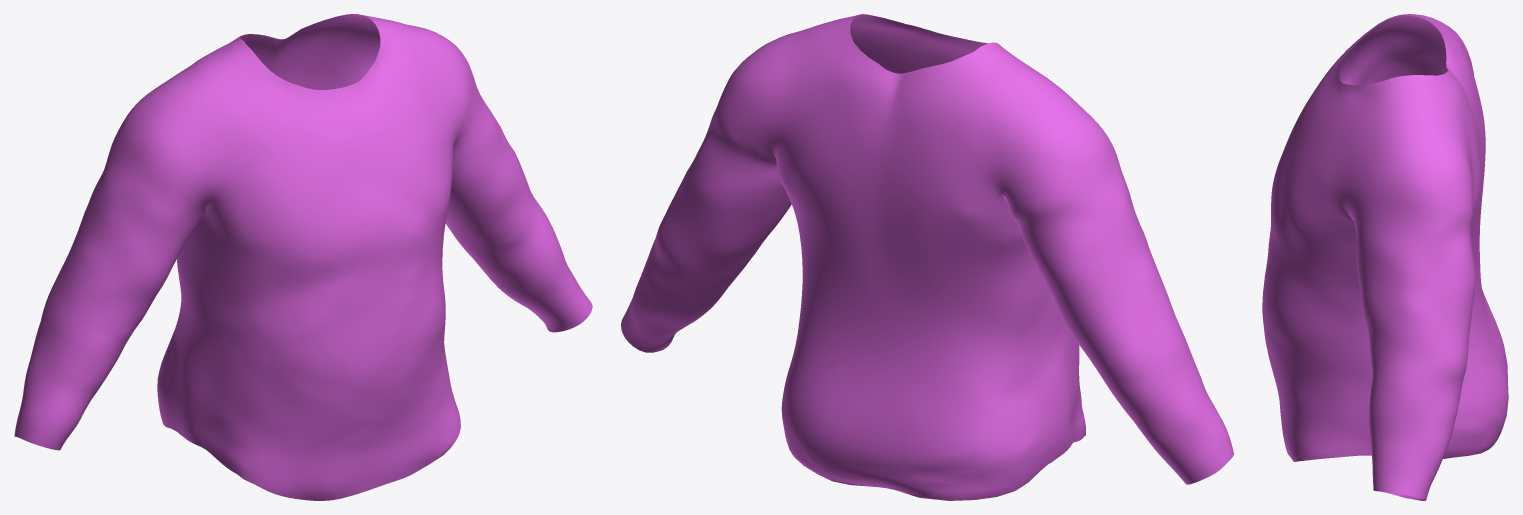
The model's file is Male-XX-Large-Shirt-.glb.
3 renders of one model, left to right at view 1: azimuth 30°, elevation 25°; view 2: azimuth 150°, elevation 25°; view 3: azimuth 270°, elevation 25°, orthographic. The views are drawn at different scales.
Visible parts, largest first — view 1: Group1.008; view 2: Group1.008; view 3: Group1.008.
Part boxes in pixels (left/top/right/bottom): Group1.008: left=14, top=14, right=592, bottom=500; Group1.008: left=621, top=14, right=1233, bottom=500; Group1.008: left=1262, top=14, right=1508, bottom=500.
Size of the model in its own units: 1.87 by 1.31 by 0.7384.
